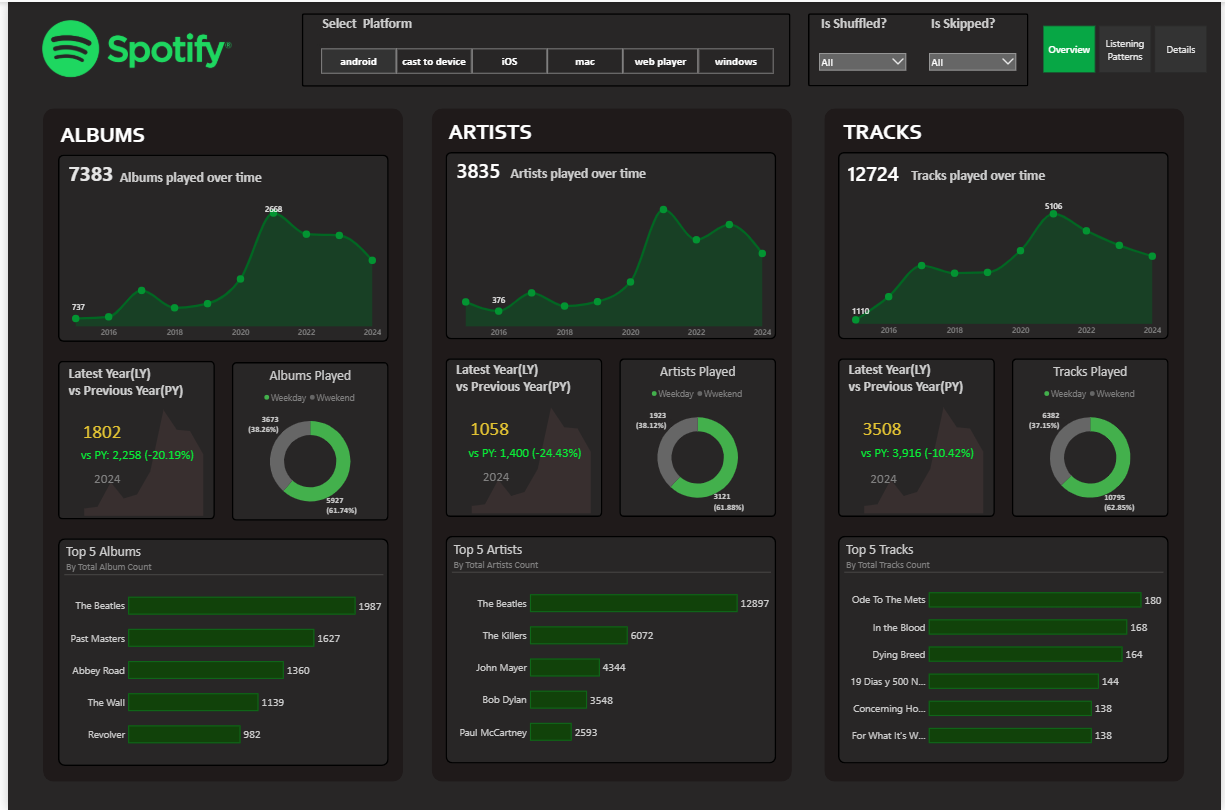

The page's visual inventory and layout, read from the dashboard file:
{"tool":"powerbi","page":{"name":"Overview","canvas":[3300,2200],"ordinal":0},"visuals":[{"type":"shape","box":[800,32,1330,200],"z":0},{"type":"image","box":[64,32,575,200],"z":1000},{"type":"shape","box":[96,288,980,1833],"z":2000},{"type":"textbox","box":[128,320,256,96],"z":3000},{"type":"shape","box":[135,416,900,510],"z":4000},{"type":"cardVisual","fields":{"Data":["spotify_history.No of Albums"]},"box":[128,416,192,96],"z":5000},{"type":"textbox","box":[288,448,416,64],"z":6000},{"type":"areaChart","fields":{"Category":["Date Table.Year"],"Y":["spotify_history.No of Albums"]},"box":[155,542,864,384],"z":7000},{"type":"shape","box":[135,977,427,432],"z":8000},{"type":"areaChart","fields":{"Category":["Date Table.Year"],"Y":["spotify_history.No of Albums"]},"box":[155,1078,390,325],"z":9000},{"type":"textbox","box":[160,982,384,128],"z":10000},{"type":"cardVisual","fields":{"Data":["spotify_history.CurrentYearAlbums"]},"box":[160,1120,192,96],"z":11000},{"type":"cardVisual","fields":{"Data":["spotify_history.PY and YoY Albums KPI"]},"box":[160,1184,384,96],"z":12000},{"type":"cardVisual","fields":{"Data":["spotify_history.Max Year"]},"box":[192,1248,160,96],"z":13000},{"type":"shape","box":[608,978,427,432],"z":14000},{"type":"donutChart","title":"Albums Played","fields":{"Category":["Date Table.Weekday_Weekend"],"Y":["spotify_history.No of Albums"]},"box":[623,992,400,416],"z":15000},{"type":"shape","box":[135,1460,900,620],"z":16000},{"type":"barChart","title":"Top 5 Albums","fields":{"Category":["spotify_history.album_name"],"Y":["CountNonNull(spotify_history.album_name)"]},"box":[154,1474,869,588],"z":17000},{"type":"shape","box":[1152,288,980,1833],"z":18000},{"type":"shape","box":[2220,288,980,1833],"z":19000},{"type":"textbox","box":[1183,312.1,256,96],"z":20000},{"type":"shape","box":[1190,408.1,900,510],"z":21000},{"type":"cardVisual","fields":{"Data":["spotify_history.No of Artists"]},"box":[1183,408.1,192,96],"z":22000},{"type":"textbox","box":[1343,440.1,416,64],"z":23000},{"type":"areaChart","fields":{"Category":["Date Table.Year"],"Y":["spotify_history.No of Artists"]},"box":[1216,540,864,384],"z":24000},{"type":"shape","box":[1190,969.1,427,432],"z":25000},{"type":"areaChart","fields":{"Category":["Date Table.Year"],"Y":["spotify_history.No of Albums"]},"box":[1210,1070.1,390,325],"z":26000},{"type":"textbox","box":[1215,974.1,384,128],"z":27000},{"type":"cardVisual","fields":{"Data":["spotify_history.LatestYearArtists"]},"box":[1215,1112.1,192,96],"z":28000},{"type":"cardVisual","fields":{"Data":["spotify_history.PY and YoY Artists KPI"]},"box":[1215,1176.1,384,96],"z":29000},{"type":"cardVisual","fields":{"Data":["spotify_history.Max Year"]},"box":[1247,1240.1,160,96],"z":30000},{"type":"shape","box":[1663,970.1,427,432],"z":31000},{"type":"donutChart","title":"Artists Played","fields":{"Category":["Date Table.Weekday_Weekend"],"Y":["spotify_history.No of Artists"]},"box":[1678,984.1,400,416],"z":32000},{"type":"shape","box":[1190,1452.1,900,620],"z":33000},{"type":"barChart","title":"Top 5 Artists","fields":{"Category":["spotify_history.artist_name"],"Y":["CountNonNull(spotify_history.artist_name)"]},"box":[1209,1466.1,869,588],"z":34000},{"type":"textbox","box":[2250.4,312.1,256,96],"z":35000},{"type":"shape","box":[2257.4,408.1,900,510],"z":36000},{"type":"cardVisual","fields":{"Data":["spotify_history.No of Tracks"]},"box":[2256,416,199,96],"z":37000},{"type":"textbox","box":[2433,445,416,64],"z":38000},{"type":"areaChart","fields":{"Category":["Date Table.Year"],"Y":["spotify_history.No of Tracks"]},"box":[2277.4,534.1,864,384],"z":39000},{"type":"shape","box":[2257.4,969.1,427,432],"z":40000},{"type":"areaChart","fields":{"Category":["Date Table.Year"],"Y":["spotify_history.No of Albums"]},"box":[2277.4,1070.1,390,325],"z":41000},{"type":"textbox","box":[2282.4,974.1,384,128],"z":42000},{"type":"cardVisual","fields":{"Data":["spotify_history.LatestYearTracks"]},"box":[2282.4,1112.1,192,96],"z":43000},{"type":"cardVisual","fields":{"Data":["spotify_history.PY and YoY Tracks KPI"]},"box":[2282.4,1176.1,384,96],"z":44000},{"type":"cardVisual","fields":{"Data":["spotify_history.Max Year"]},"box":[2304,1248,160,96],"z":45000},{"type":"shape","box":[2730.4,970.1,427,432],"z":46000},{"type":"donutChart","title":"Tracks Played","fields":{"Category":["Date Table.Weekday_Weekend"],"Y":["spotify_history.No of Tracks"]},"box":[2745.4,984.1,400,416],"z":47000},{"type":"shape","box":[2257.4,1452.1,900,620],"z":48000},{"type":"barChart","title":"Top 5 Tracks","fields":{"Category":["spotify_history.track_name"],"Y":["CountNonNull(spotify_history.track_name)"]},"box":[2276.4,1466.1,869,588],"z":49000},{"type":"textbox","box":[849,32,416,64],"z":50000},{"type":"shape","box":[2176,32,600,199],"z":51000},{"type":"slicer","fields":{"Values":["spotify_history.shuffle"]},"box":[2197,128,256,75],"z":52000},{"type":"slicer","fields":{"Values":["spotify_history.skipped"]},"box":[2496,128,256,75],"z":53000},{"type":"textbox","box":[2208,32,224,64],"z":54000},{"type":"textbox","box":[2506,32,224,64],"z":55000},{"type":"slicer","fields":{"Values":["spotify_history.platform"]},"box":[826,104,1280,96],"z":56000},{"type":"pageNavigator","box":[2816,64,448,128],"z":57000}]}

Visuals, with their boxes in screenshot pixels (x1, y1, x2, y2), scaled from the page's 3300x2200 canvas onto the 1225x810 screenshot:
shape: <bbox>297, 12, 791, 85</bbox>
image: <bbox>24, 12, 237, 85</bbox>
shape: <bbox>36, 106, 399, 781</bbox>
textbox: <bbox>48, 118, 143, 153</bbox>
shape: <bbox>50, 153, 384, 341</bbox>
cardVisual - spotify_history.No of Albums: <bbox>48, 153, 119, 189</bbox>
textbox: <bbox>107, 165, 261, 189</bbox>
areaChart - Date Table.Year x spotify_history.No of Albums: <bbox>58, 200, 378, 341</bbox>
shape: <bbox>50, 360, 209, 519</bbox>
areaChart - Date Table.Year x spotify_history.No of Albums: <bbox>58, 397, 202, 517</bbox>
textbox: <bbox>59, 362, 202, 409</bbox>
cardVisual - spotify_history.CurrentYearAlbums: <bbox>59, 412, 131, 448</bbox>
cardVisual - spotify_history.PY and YoY Albums KPI: <bbox>59, 436, 202, 471</bbox>
cardVisual - spotify_history.Max Year: <bbox>71, 459, 131, 495</bbox>
shape: <bbox>226, 360, 384, 519</bbox>
"Albums Played" donutChart: <bbox>231, 365, 380, 518</bbox>
shape: <bbox>50, 538, 384, 766</bbox>
"Top 5 Albums" barChart: <bbox>57, 543, 380, 759</bbox>
shape: <bbox>428, 106, 791, 781</bbox>
shape: <bbox>824, 106, 1188, 781</bbox>
textbox: <bbox>439, 115, 534, 150</bbox>
shape: <bbox>442, 150, 776, 338</bbox>
cardVisual - spotify_history.No of Artists: <bbox>439, 150, 510, 186</bbox>
textbox: <bbox>499, 162, 653, 186</bbox>
areaChart - Date Table.Year x spotify_history.No of Artists: <bbox>451, 199, 772, 340</bbox>
shape: <bbox>442, 357, 600, 516</bbox>
areaChart - Date Table.Year x spotify_history.No of Albums: <bbox>449, 394, 594, 514</bbox>
textbox: <bbox>451, 359, 594, 406</bbox>
cardVisual - spotify_history.LatestYearArtists: <bbox>451, 409, 522, 445</bbox>
cardVisual - spotify_history.PY and YoY Artists KPI: <bbox>451, 433, 594, 468</bbox>
cardVisual - spotify_history.Max Year: <bbox>463, 457, 522, 492</bbox>
shape: <bbox>617, 357, 776, 516</bbox>
"Artists Played" donutChart: <bbox>623, 362, 771, 515</bbox>
shape: <bbox>442, 535, 776, 763</bbox>
"Top 5 Artists" barChart: <bbox>449, 540, 771, 756</bbox>
textbox: <bbox>835, 115, 930, 150</bbox>
shape: <bbox>838, 150, 1172, 338</bbox>
cardVisual - spotify_history.No of Tracks: <bbox>837, 153, 911, 189</bbox>
textbox: <bbox>903, 164, 1058, 187</bbox>
areaChart - Date Table.Year x spotify_history.No of Tracks: <bbox>845, 197, 1166, 338</bbox>
shape: <bbox>838, 357, 996, 516</bbox>
areaChart - Date Table.Year x spotify_history.No of Albums: <bbox>845, 394, 990, 514</bbox>
textbox: <bbox>847, 359, 990, 406</bbox>
cardVisual - spotify_history.LatestYearTracks: <bbox>847, 409, 919, 445</bbox>
cardVisual - spotify_history.PY and YoY Tracks KPI: <bbox>847, 433, 990, 468</bbox>
cardVisual - spotify_history.Max Year: <bbox>855, 459, 915, 495</bbox>
shape: <bbox>1014, 357, 1172, 516</bbox>
"Tracks Played" donutChart: <bbox>1019, 362, 1168, 515</bbox>
shape: <bbox>838, 535, 1172, 763</bbox>
"Top 5 Tracks" barChart: <bbox>845, 540, 1168, 756</bbox>
textbox: <bbox>315, 12, 470, 35</bbox>
shape: <bbox>808, 12, 1030, 85</bbox>
slicer - spotify_history.shuffle: <bbox>816, 47, 911, 75</bbox>
slicer - spotify_history.skipped: <bbox>927, 47, 1022, 75</bbox>
textbox: <bbox>820, 12, 903, 35</bbox>
textbox: <bbox>930, 12, 1013, 35</bbox>
slicer - spotify_history.platform: <bbox>307, 38, 782, 74</bbox>
pageNavigator: <bbox>1045, 24, 1212, 71</bbox>
